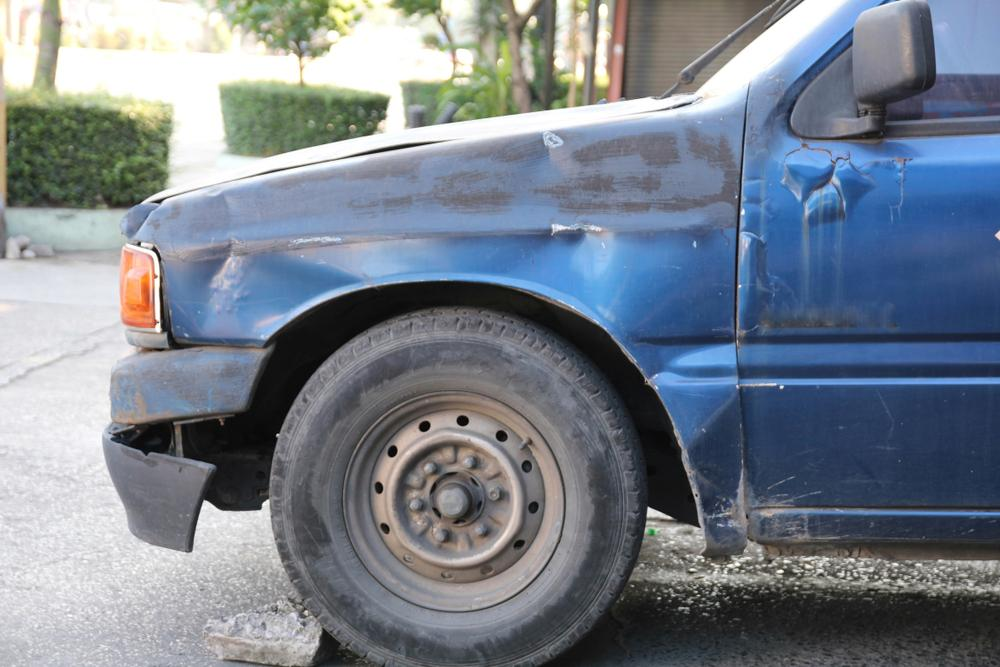dent: (181, 245, 373, 344), (628, 319, 733, 445), (495, 222, 617, 325)
